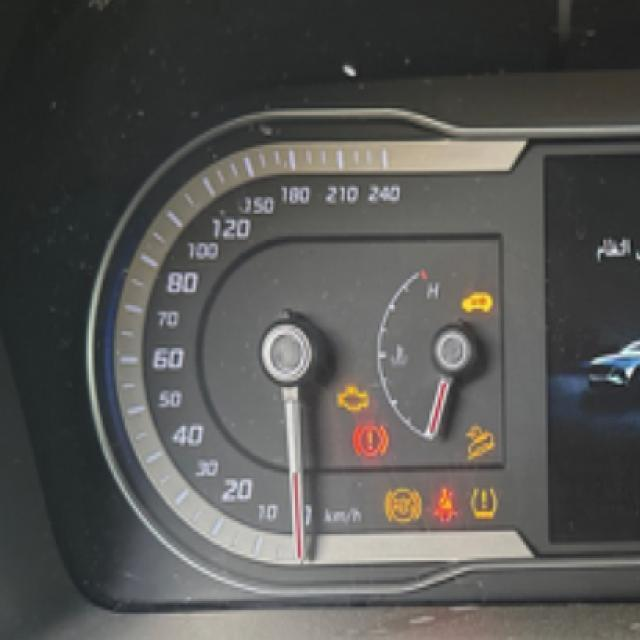Seat Belt: (430, 484, 460, 526)
